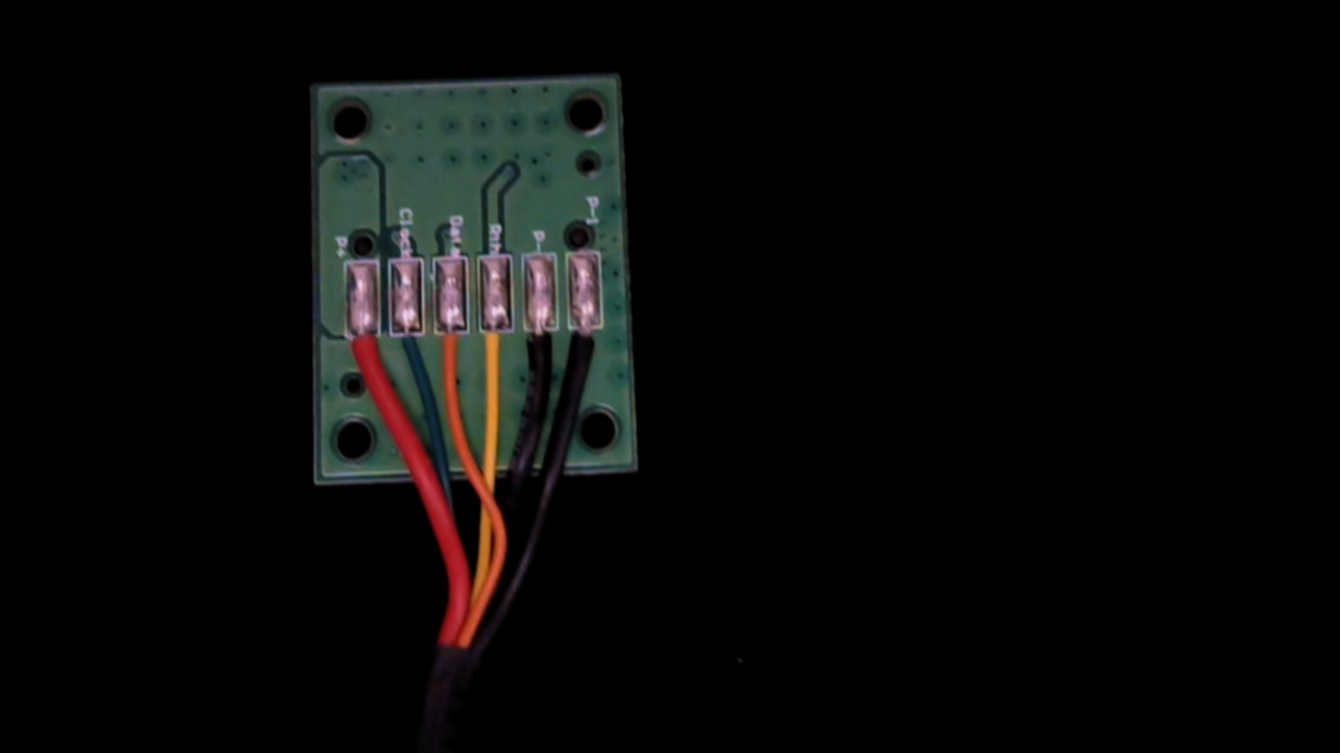Black: (521, 310, 556, 387)
Black1: (567, 306, 606, 388)
Green: (388, 315, 426, 382)
Orange: (432, 313, 470, 390)
Red: (343, 317, 382, 402)
Yellow: (476, 312, 514, 391)
